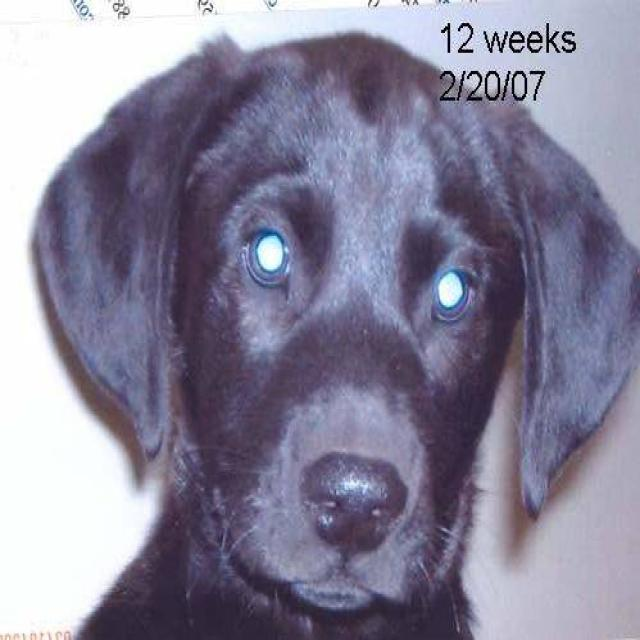dogs: (28, 13, 640, 640)
